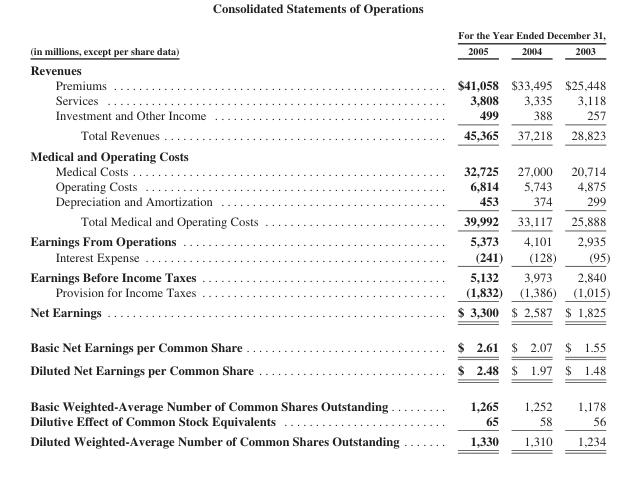table: (29, 28, 609, 447)
table column: (29, 28, 427, 447), (427, 28, 506, 447), (506, 28, 559, 447), (559, 28, 609, 447)
table column header: (29, 28, 609, 58)
table projected row header: (29, 58, 609, 76), (29, 144, 609, 162)
table row: (29, 329, 609, 358), (29, 358, 609, 387), (29, 301, 609, 329), (29, 387, 609, 412), (29, 124, 609, 144), (29, 210, 609, 230), (29, 58, 609, 76), (29, 144, 609, 162), (29, 192, 609, 210), (29, 230, 609, 248), (29, 248, 609, 266), (29, 283, 609, 301), (29, 412, 609, 430), (29, 107, 609, 124), (29, 266, 609, 283), (29, 430, 609, 447), (29, 42, 609, 58), (29, 91, 609, 107), (29, 76, 609, 91), (29, 162, 609, 177), (29, 177, 609, 192), (29, 28, 609, 42)
table spanning cell: (29, 28, 427, 58), (427, 28, 609, 42)
